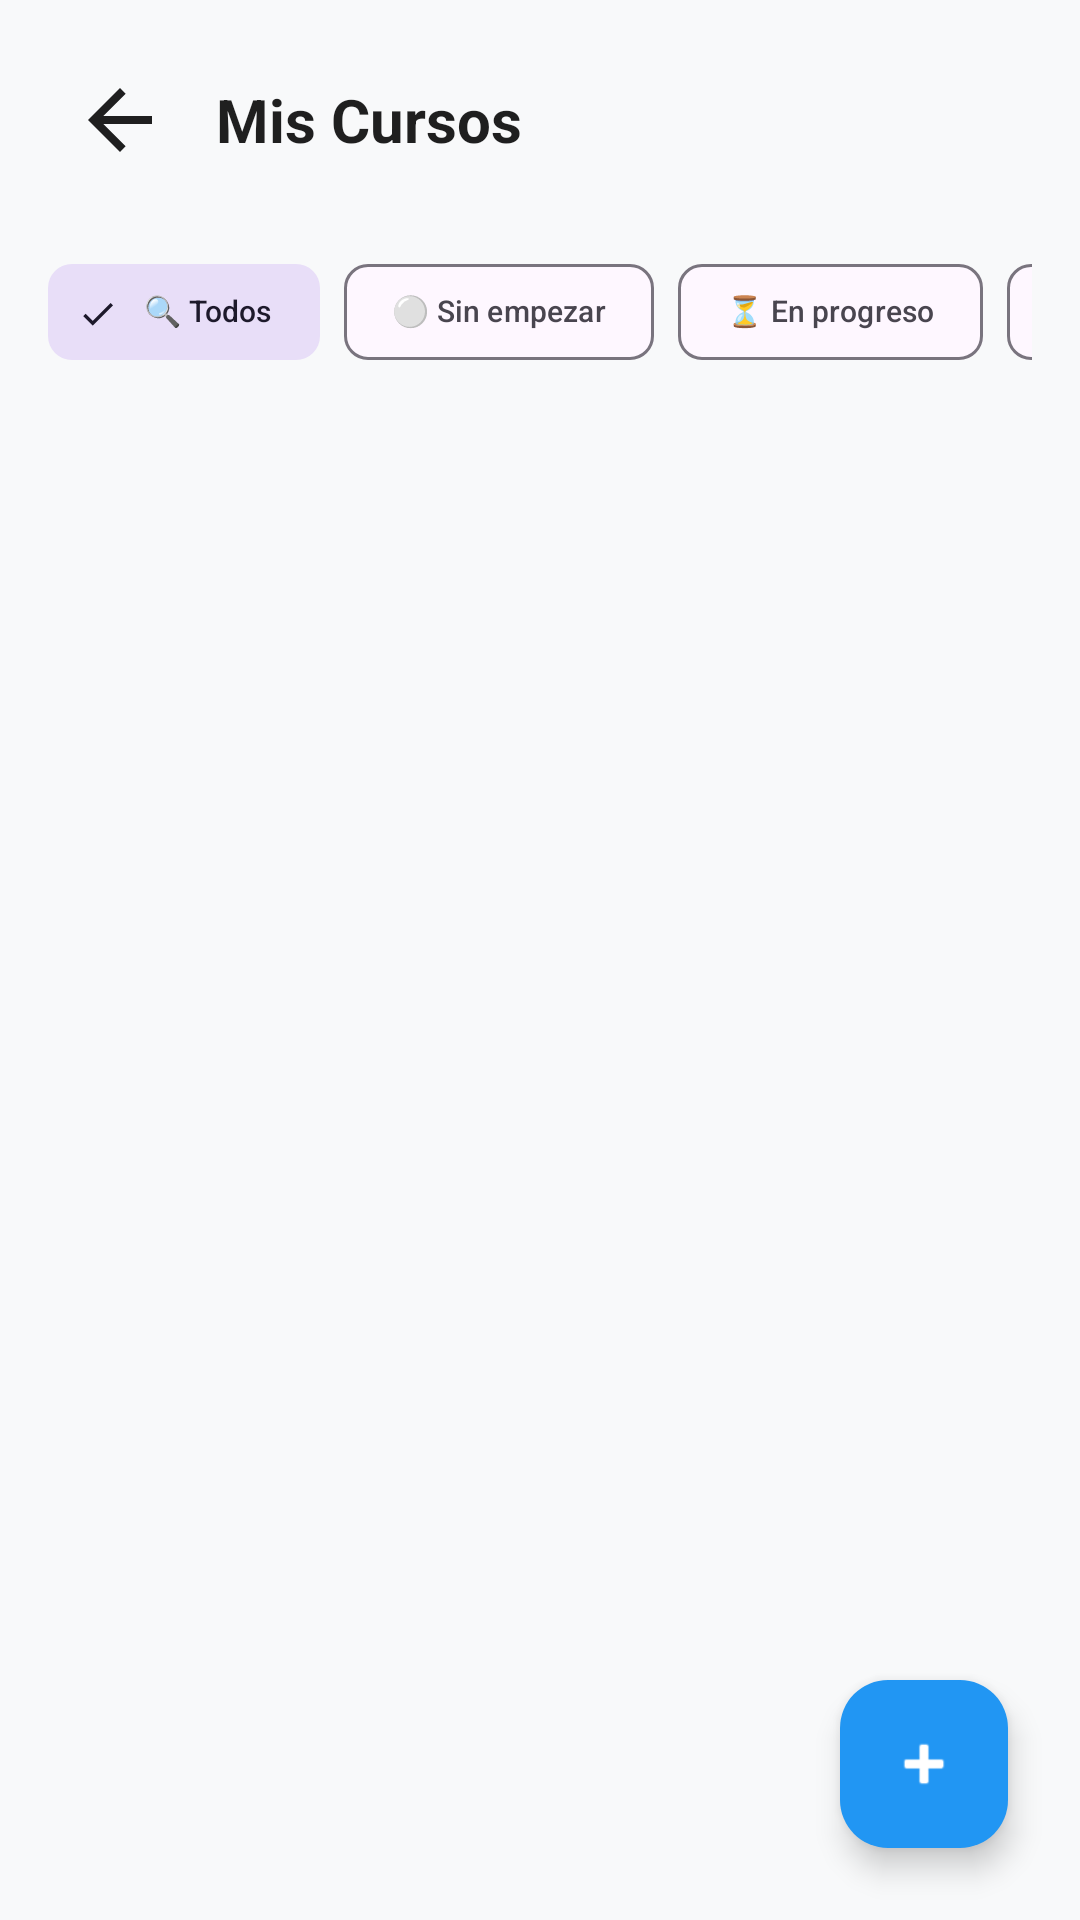

Screen size 1080 × 1920. Icon name, then its box in pixels as bbox(x1, y1, x2, y2):
Nueva página: bbox(840, 1680, 1008, 1848)
Volver: bbox(88, 88, 152, 152)
